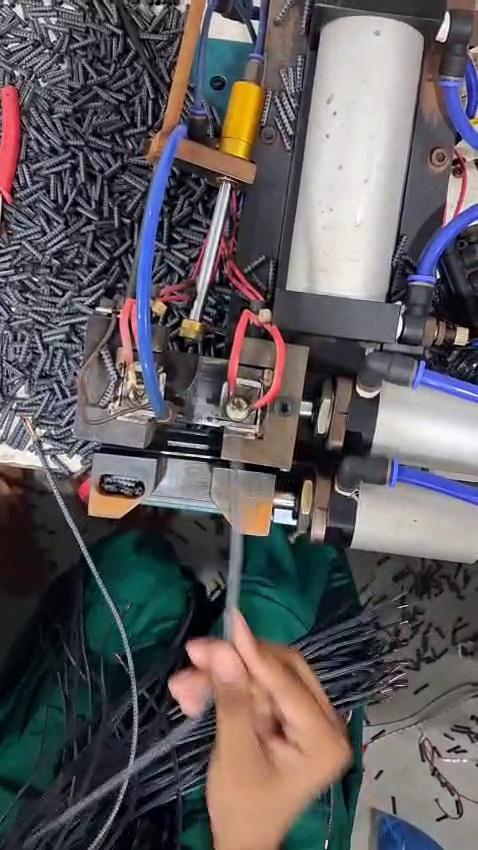intact_wire: (218, 420, 268, 536)
machine: (69, 290, 322, 519)
peeled_wire: (9, 397, 63, 479)
